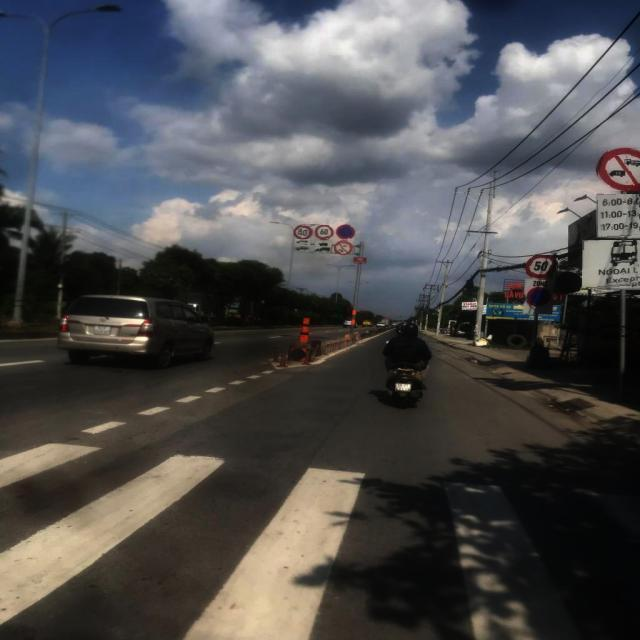107-cam-oto-khach-va-oto-tai: (596, 148, 640, 192)
127-toc-do-toi-da-50: (525, 254, 558, 278)
127-toc-do-toi-da-60: (314, 224, 334, 242)
127-toc-do-toi-da-80: (293, 224, 313, 239)
